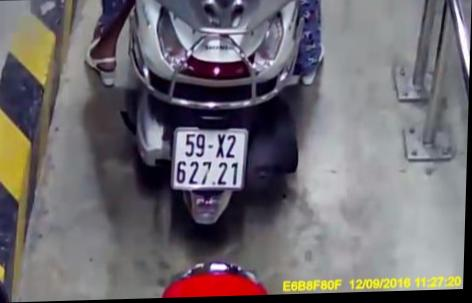LP: (167, 125, 253, 195)
